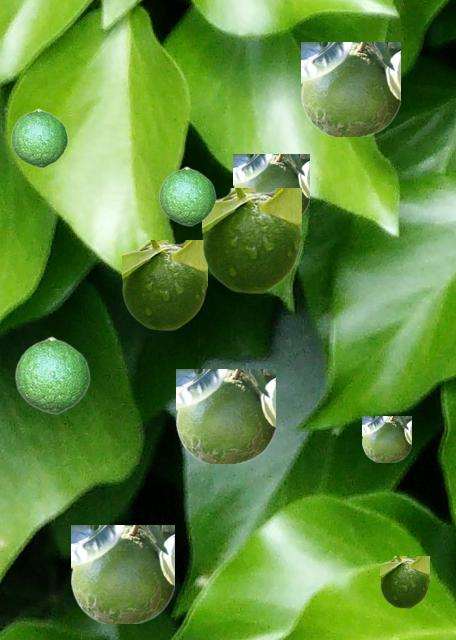dalandan: (202, 188, 300, 292), (71, 525, 173, 622), (176, 369, 274, 462), (301, 42, 399, 135), (122, 240, 206, 329), (14, 336, 89, 413), (233, 154, 308, 217), (158, 166, 215, 225), (10, 108, 67, 167), (380, 556, 428, 607), (362, 416, 410, 461)
